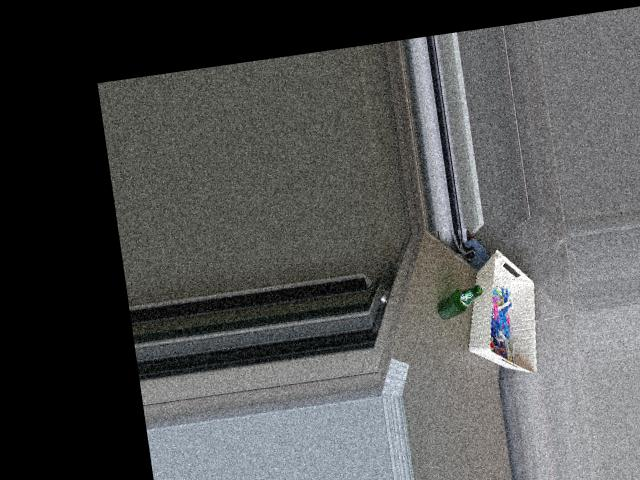beer: (434, 284, 485, 320)
